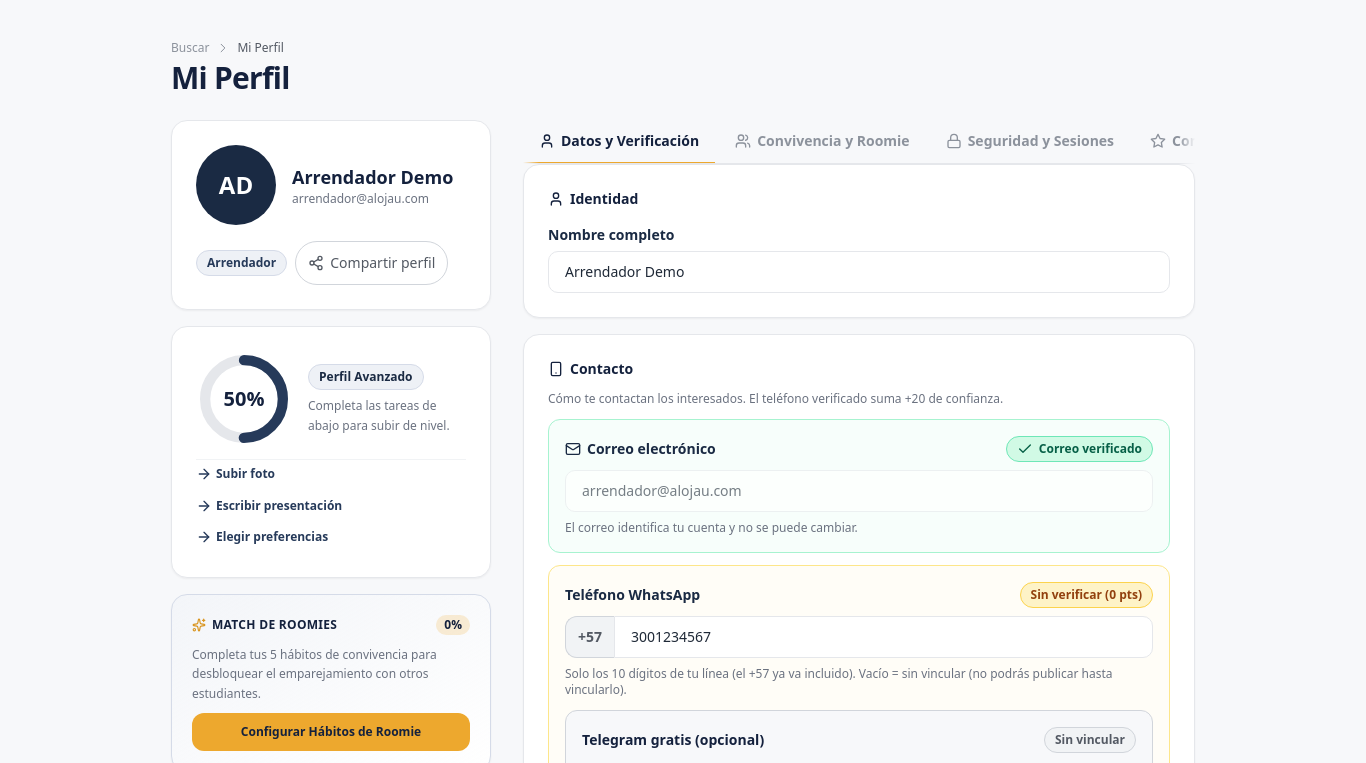
Test: Perfil - Perfil verificable + confianza clara › M2 Google: sin formulario de contraseña, con tarjeta informativa
Expected: the field showing "arrendador@alojau.com" is shown, [565,470,1153,512]
Click the tab "Seguridad y Sesiones": x=1030, y=142 [930,120,1130,164]
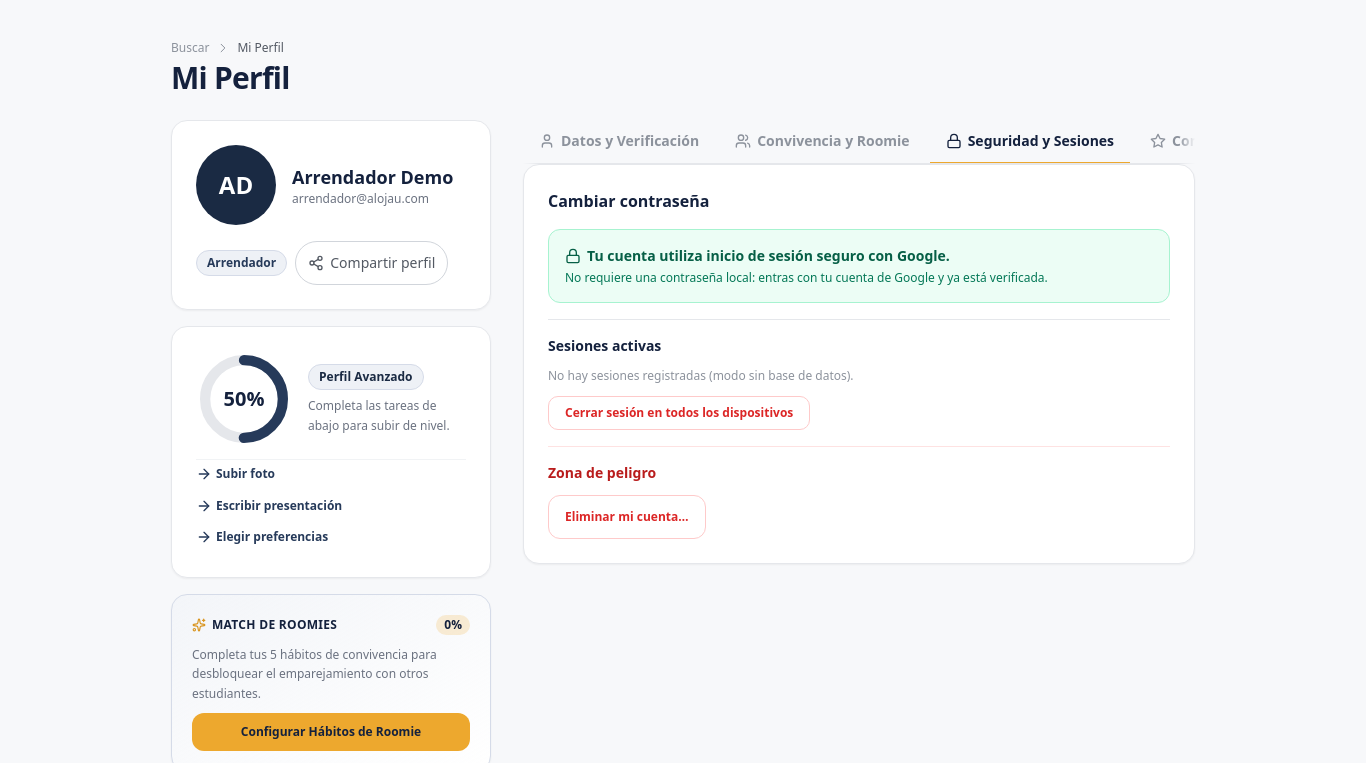
Now the text "Tu cuenta utiliza inicio de sesión seguro con Google." is shown, box [565,246,950,265]
